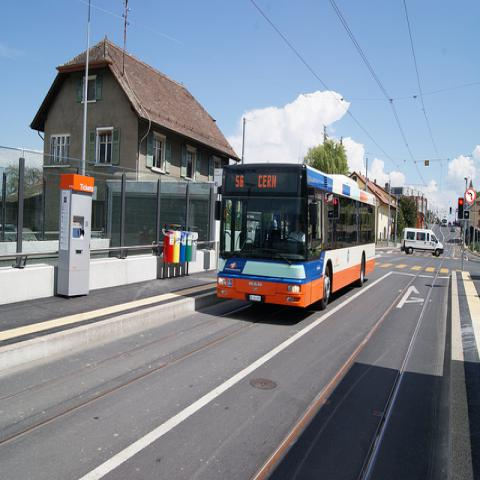bus: (216, 164, 376, 312)
car: (448, 220, 452, 226), (451, 228, 455, 232)
truck: (400, 227, 445, 257)
